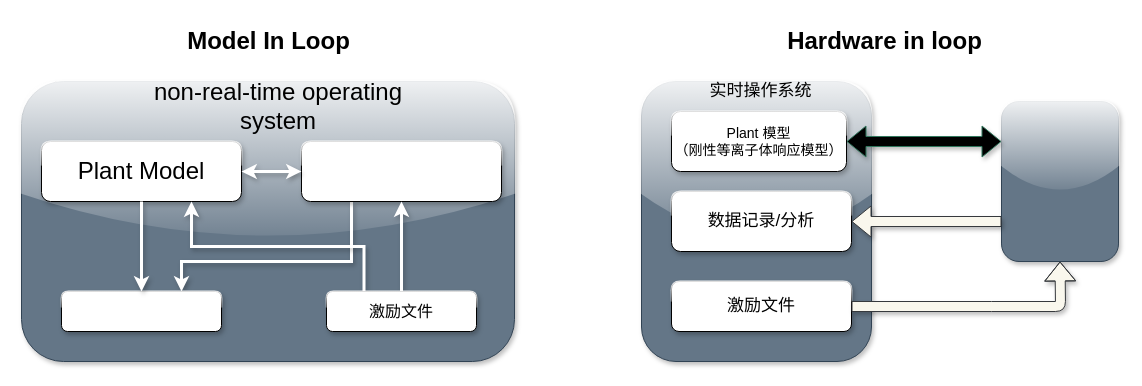
Some shapes in this 1142 by 386 pixel diagram are drawn without their labels. Here are the shapes that lost their labels. From the top down, the centre of each, then its label:
At [402,172]: "Control Model".
At [1060,182]: "被测对象 （PCS）".
At [142,312]: "Data logging/Analysis".
